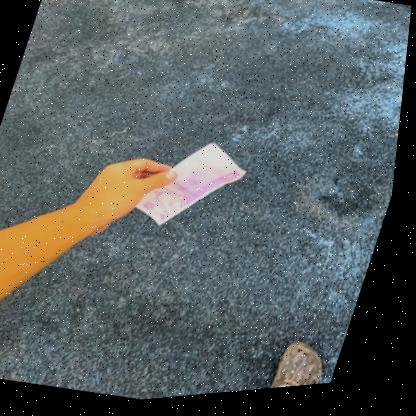one_hundred-back-vef: (131, 130, 260, 248)
